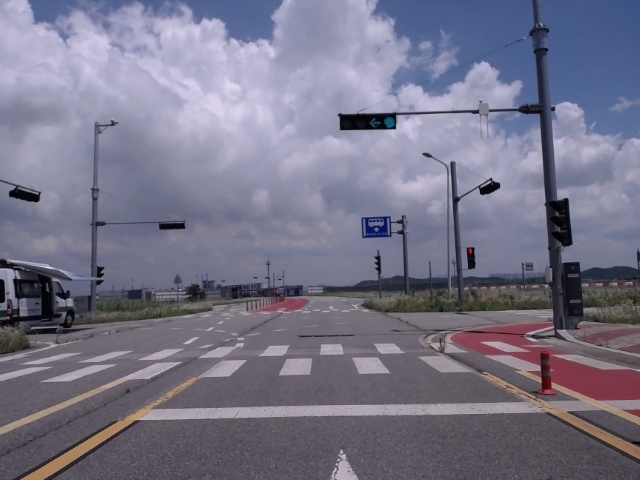all_green_4: (339, 111, 397, 129)
